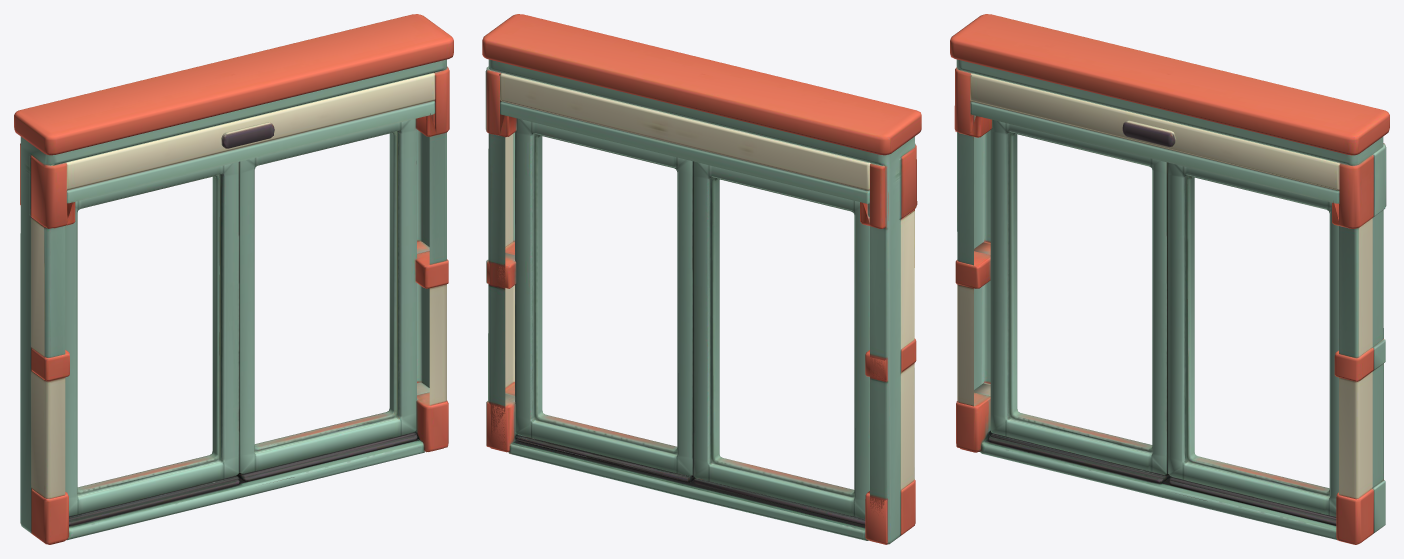
Rendered from exit-doors.glb.
The picture shows the model from 3 angles, left to right: view 1: azimuth 30°, elevation 25°; view 2: azimuth 150°, elevation 25°; view 3: azimuth 330°, elevation 25°; orthographic projection.
Parts seen in each view (by area): view 1: Automatic Exit Doors; view 2: Automatic Exit Doors; view 3: Automatic Exit Doors.
Part boxes in pixels (x1,y1,x2,y2): Automatic Exit Doors: [14, 14, 453, 544]; Automatic Exit Doors: [482, 14, 921, 544]; Automatic Exit Doors: [950, 14, 1389, 544].
Size of the model in its own units: 0.998 by 0.9707 by 0.1621.
1 material, 1 textured.
